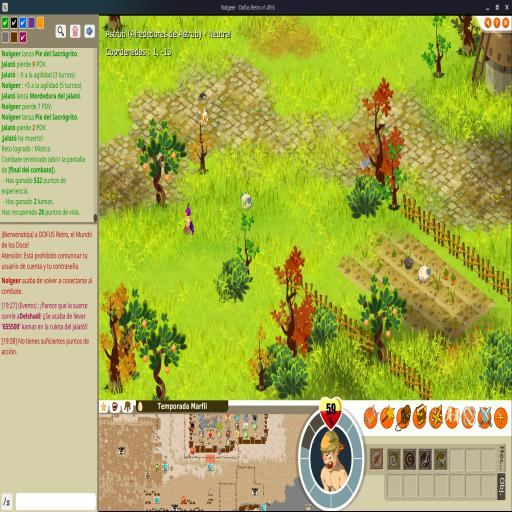Enemigos: (356, 155, 373, 181), (417, 264, 432, 284), (196, 108, 209, 128), (240, 192, 253, 211), (404, 256, 414, 270), (199, 92, 207, 102)
Personaje: (183, 204, 195, 236)
